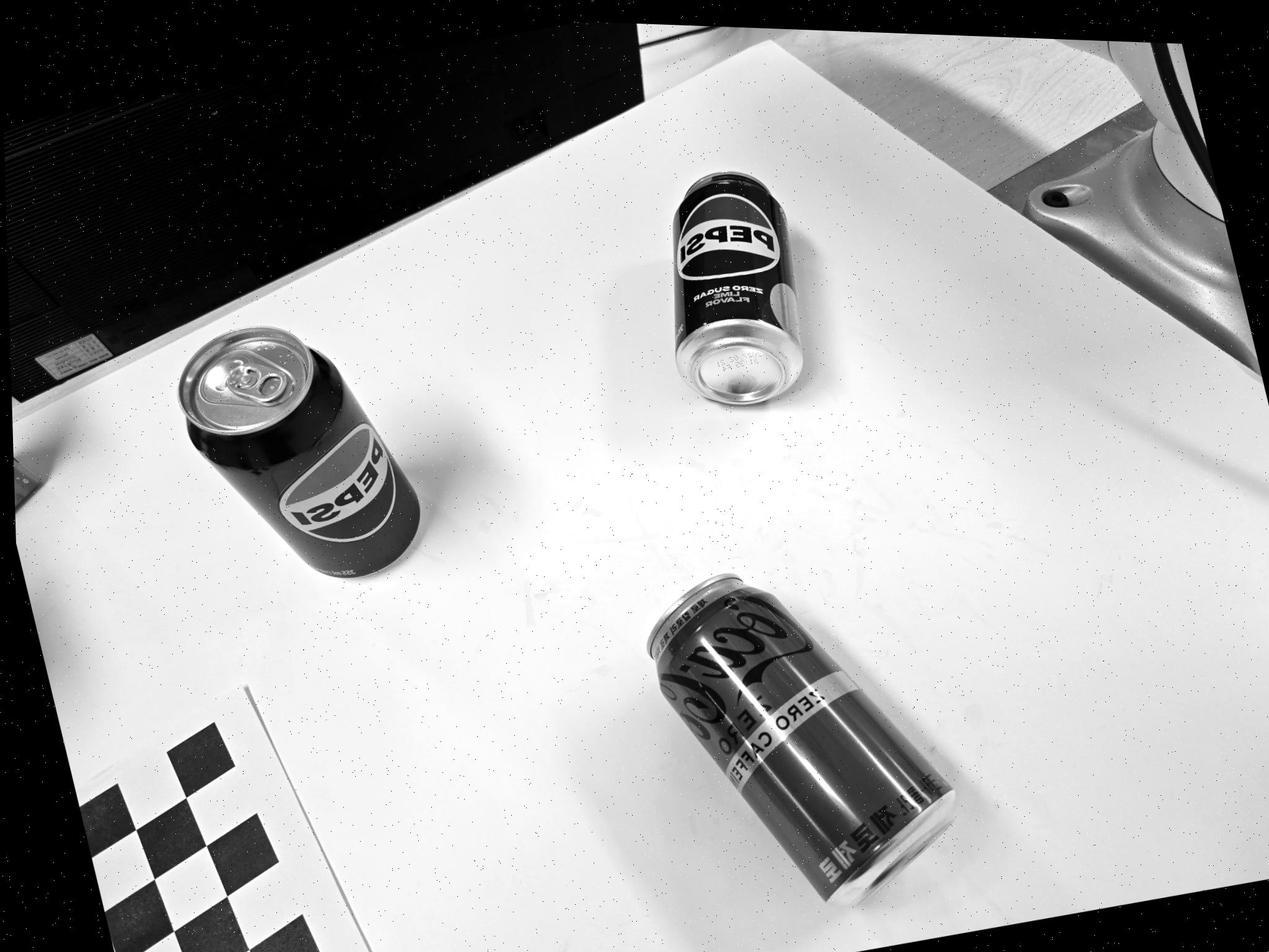can_coke_decaf: (647, 573, 956, 909)
can_pepsi: (180, 323, 418, 576)
can_pepsi_zero: (674, 171, 805, 411)
